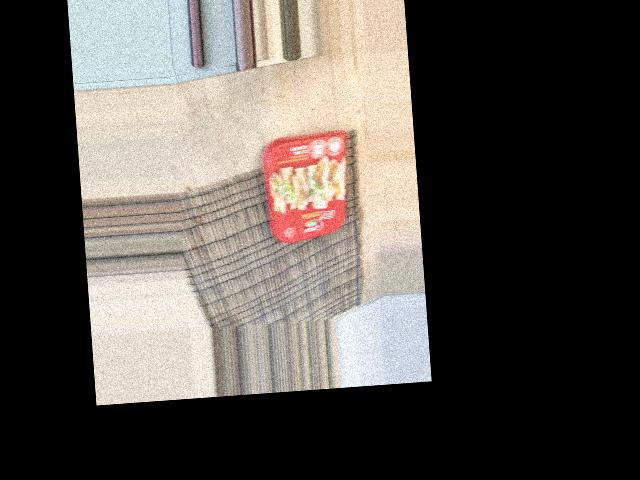cheese: (169, 143, 303, 242)
